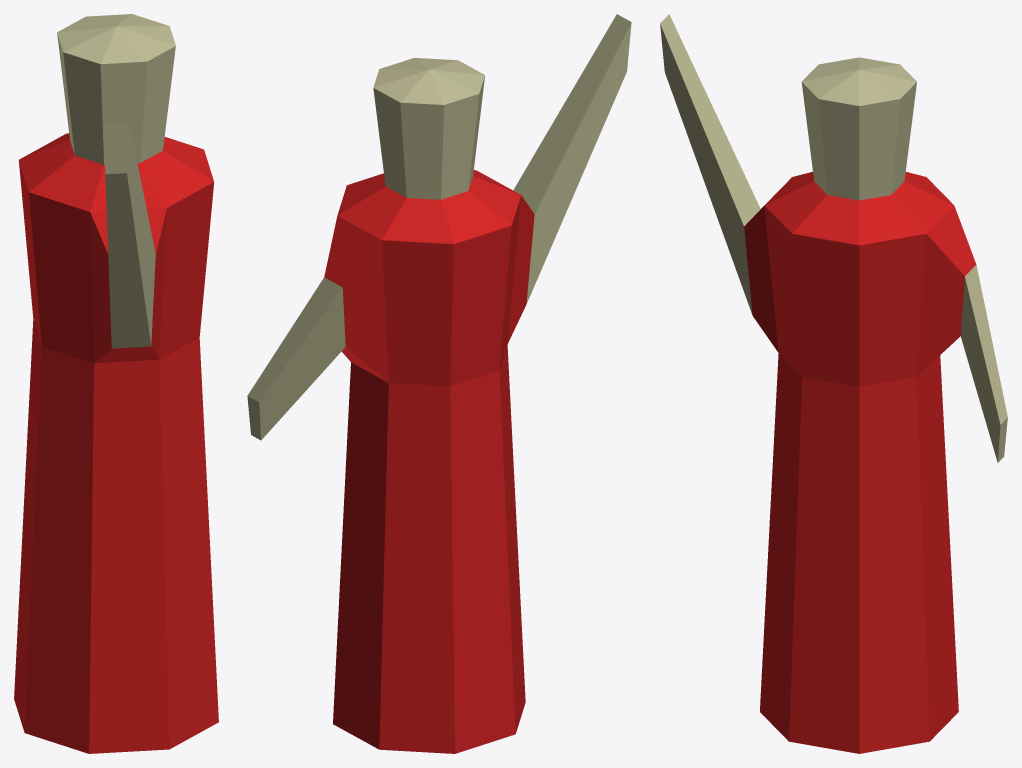
Rendered from Figure.fbx.
3 views of the same model, side by side, from view 1: azimuth 30°, elevation 25°; view 2: azimuth 150°, elevation 25°; view 3: azimuth 270°, elevation 25° (orthographic). The views are drawn at different scales.
Parts seen in each view (by area): view 1: Circle.001, Circle; view 2: Circle.001, Circle; view 3: Circle.001, Circle.
Boxes of the visible parts, x1,y1,x2,y2 form: Circle.001: (14,133,218,753); Circle: (57,14,175,348); Circle.001: (324,170,534,753); Circle: (247,14,631,440); Circle.001: (744,171,976,753); Circle: (660,14,1007,462).
Size of the model in its own units: 252 by 718 by 349.
